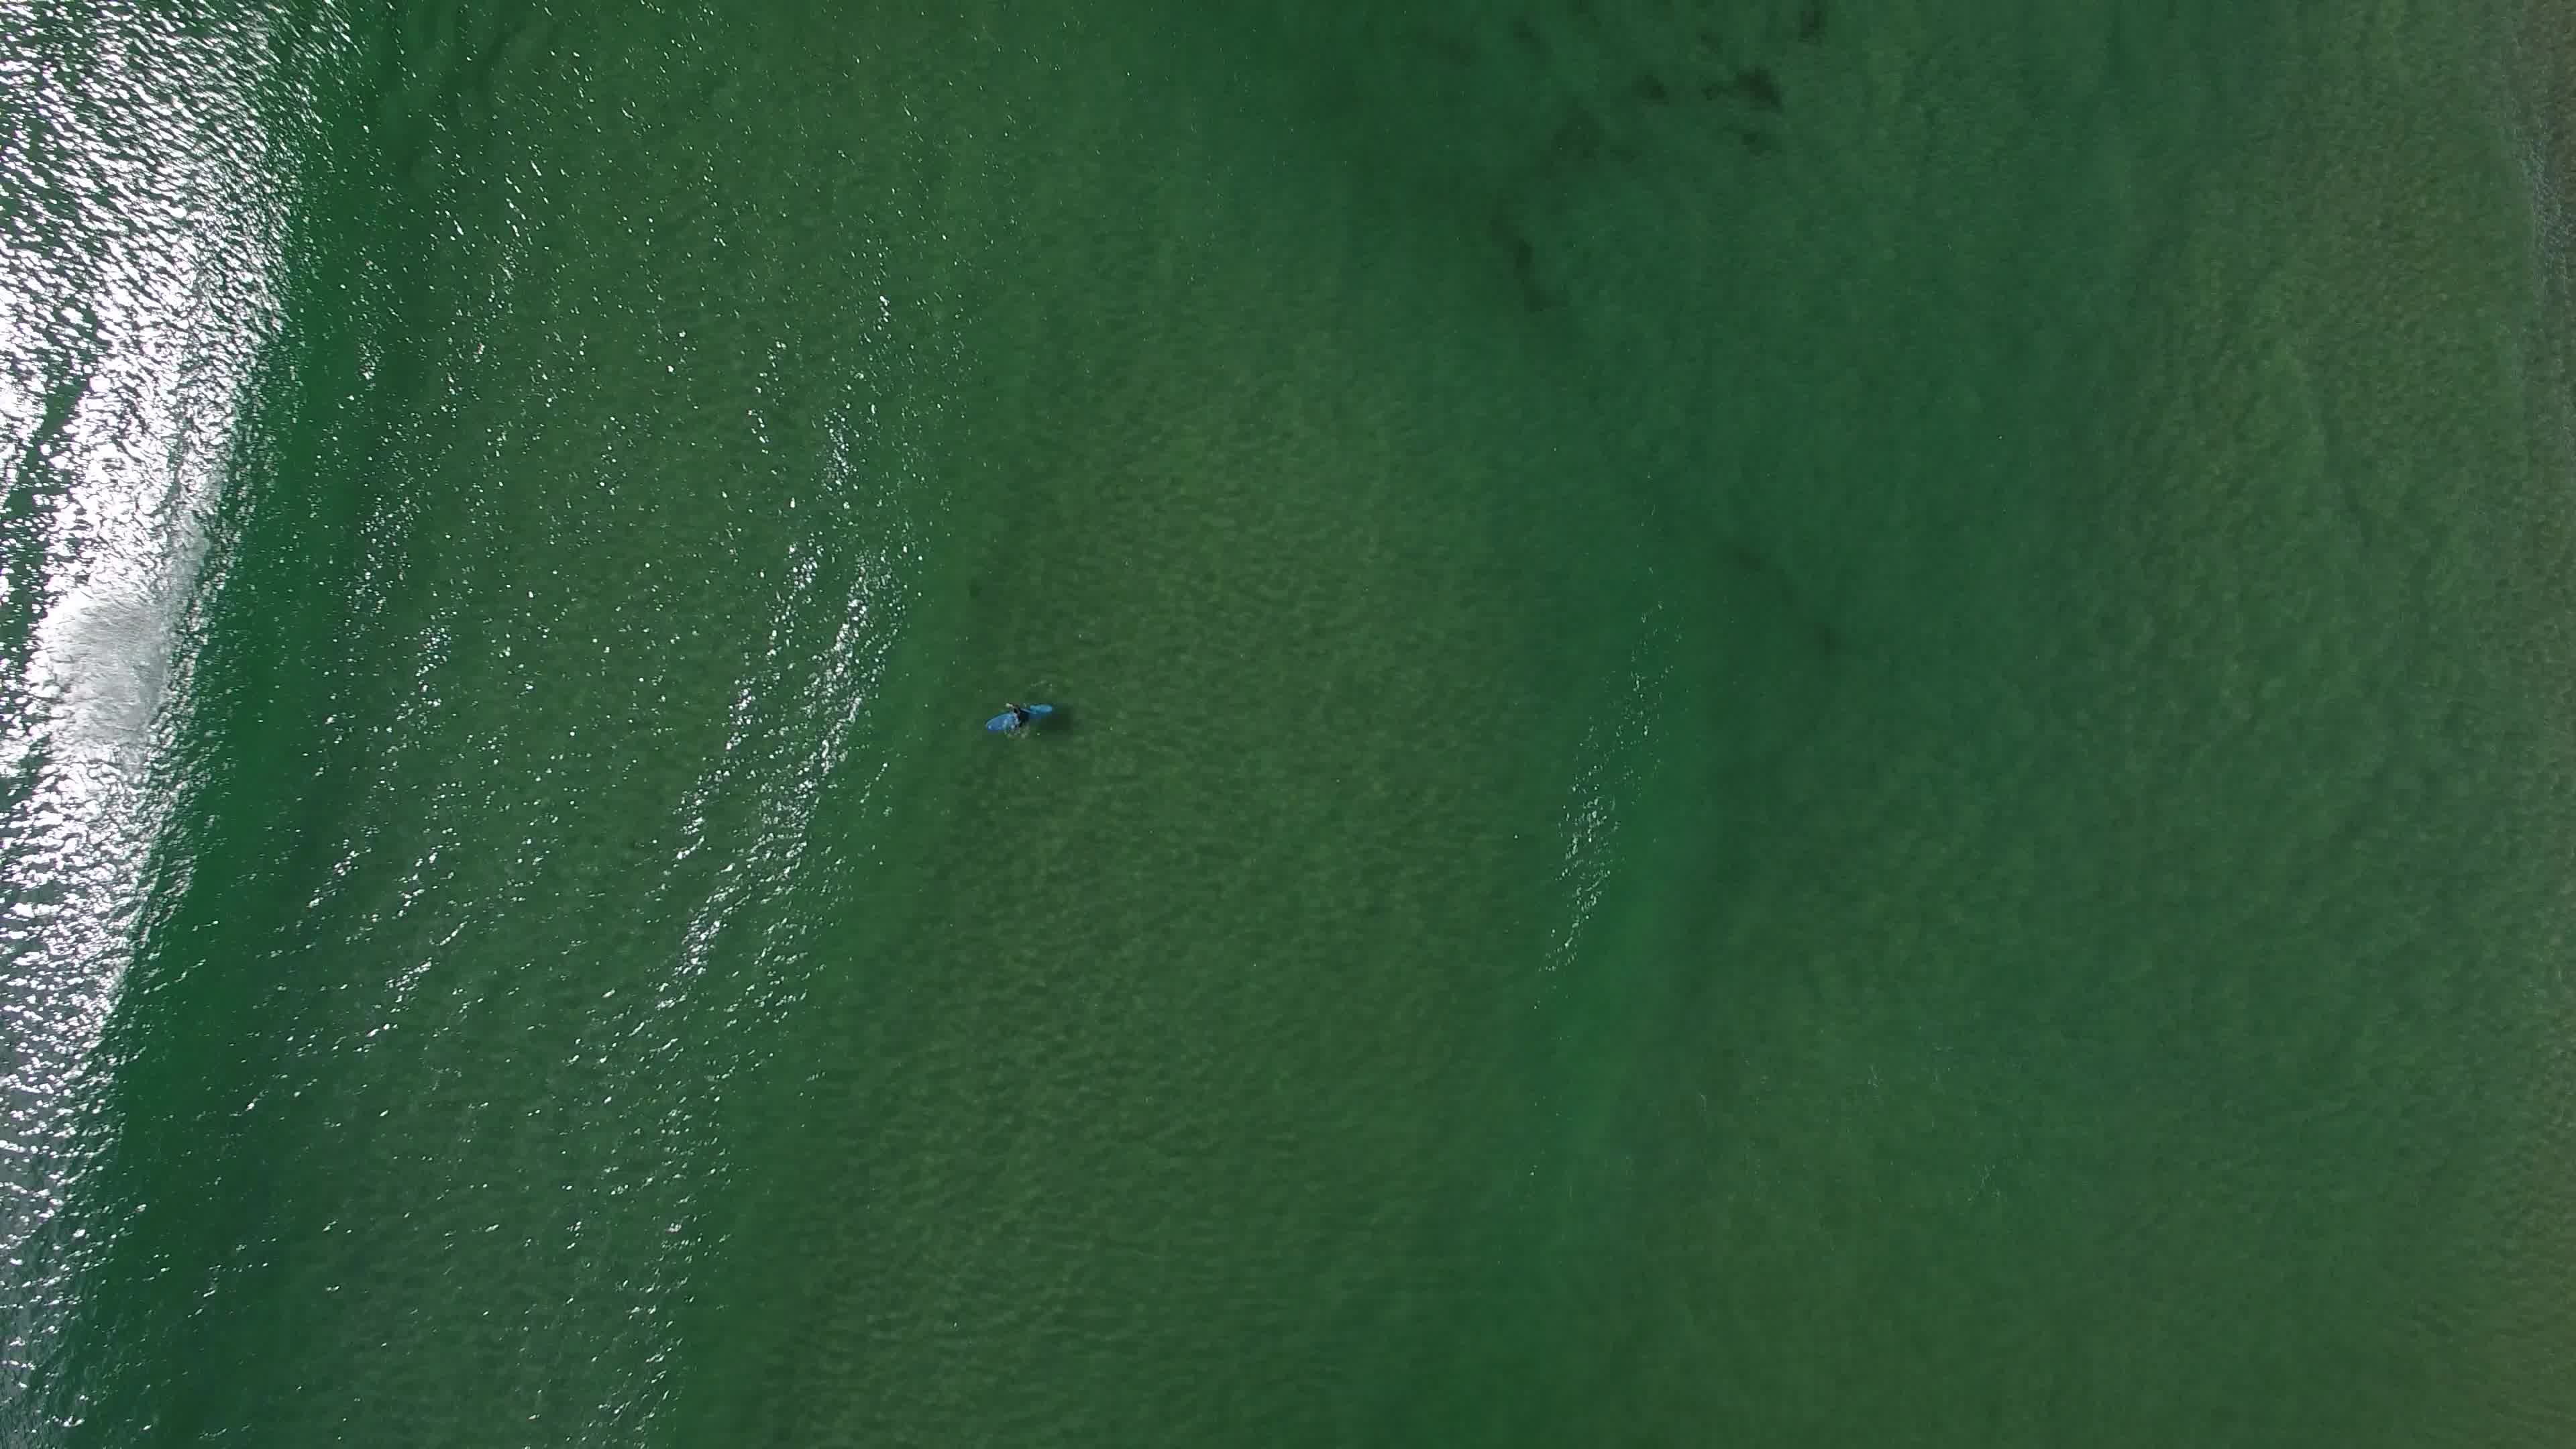surfer: (971, 690, 1062, 747)
